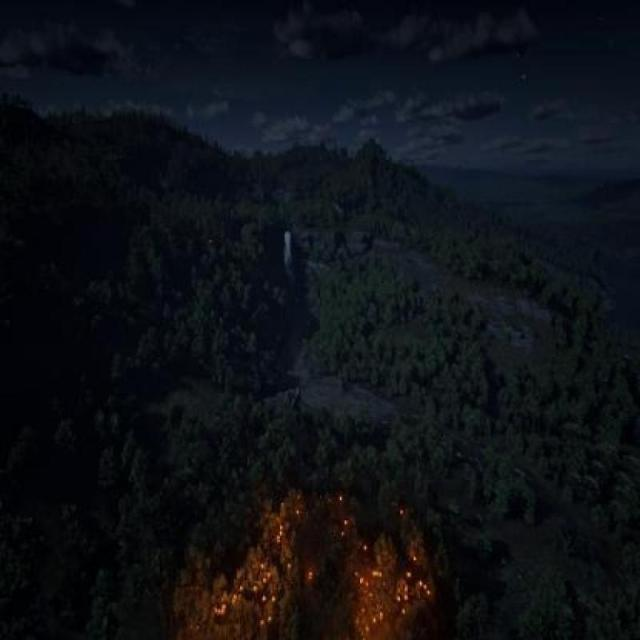Fire: (194, 563, 281, 640), (386, 532, 436, 620), (326, 492, 371, 554), (352, 563, 384, 640), (271, 512, 311, 564)
